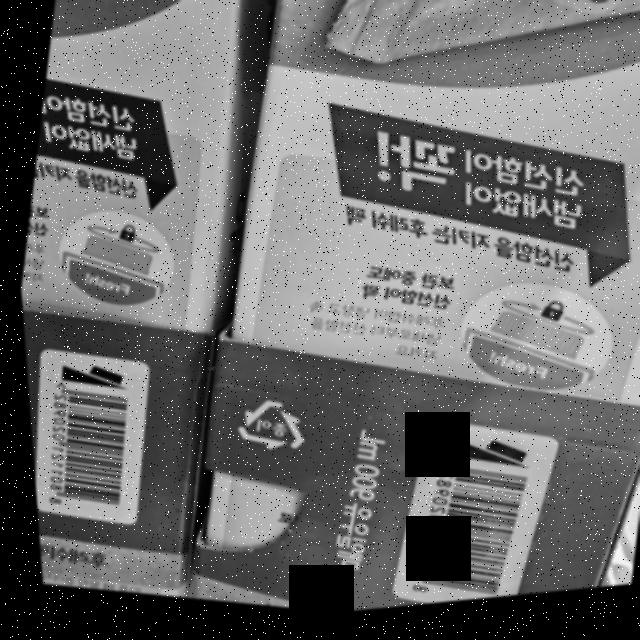Paper: (221, 391, 309, 465)
